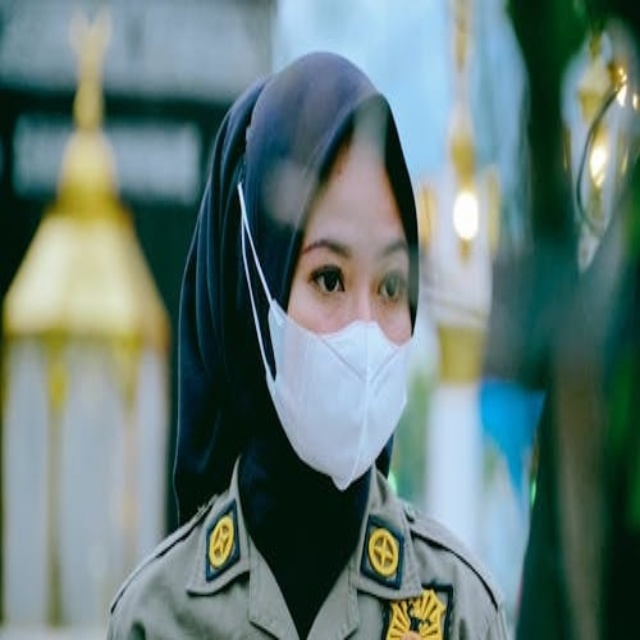Mascara: (245, 187, 414, 490)
Sin_gafas: (297, 214, 415, 321)
